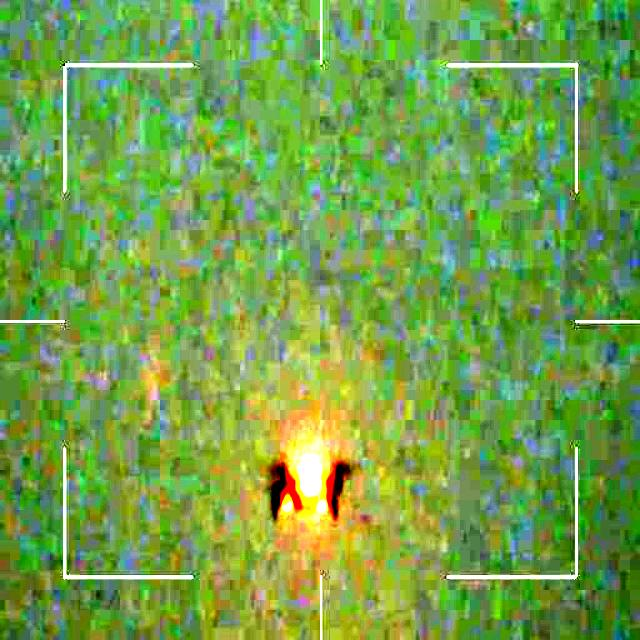bird: (294, 446, 378, 521)
